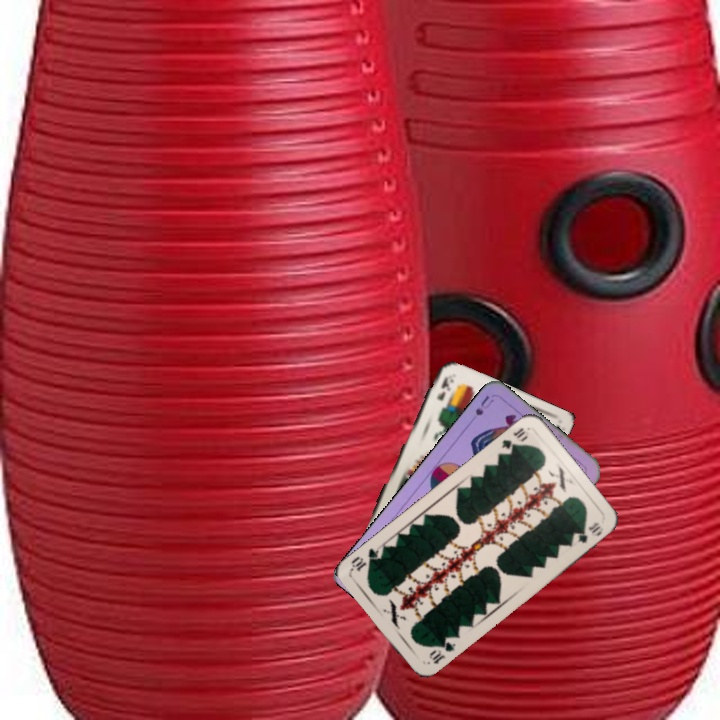EK: (433, 373, 453, 403)
G10: (425, 632, 458, 667), (497, 424, 528, 453)
SU: (471, 391, 496, 418)
